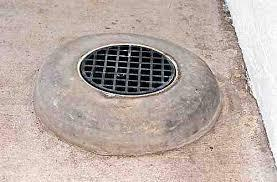closed manhole-not overflowing-: (29, 19, 232, 152)
